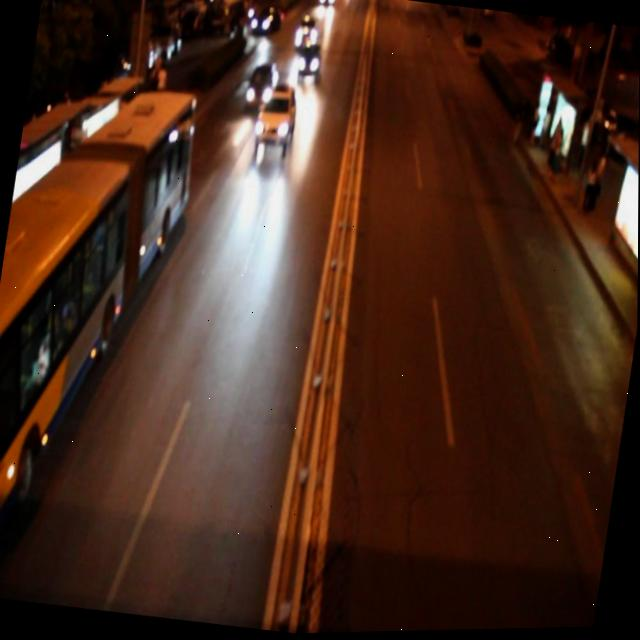car: (254, 81, 299, 150), (243, 61, 280, 113), (295, 41, 323, 82), (292, 13, 319, 53)
van: (0, 74, 202, 615)
